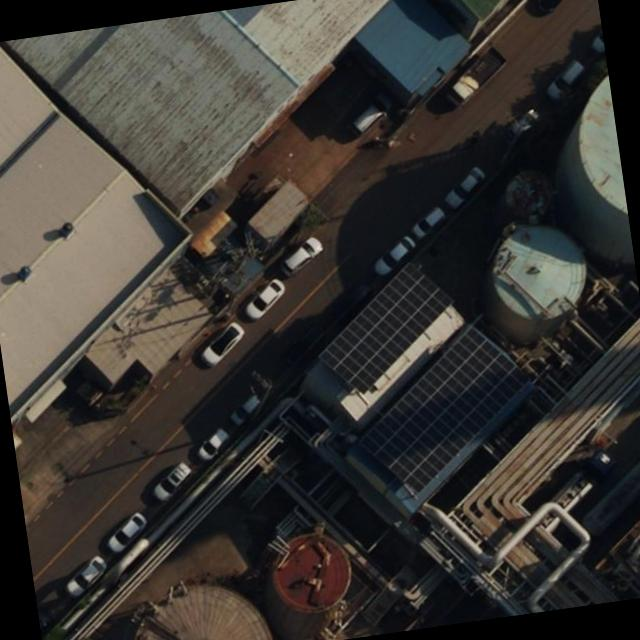solar: (341, 314, 547, 502), (304, 255, 466, 400)
